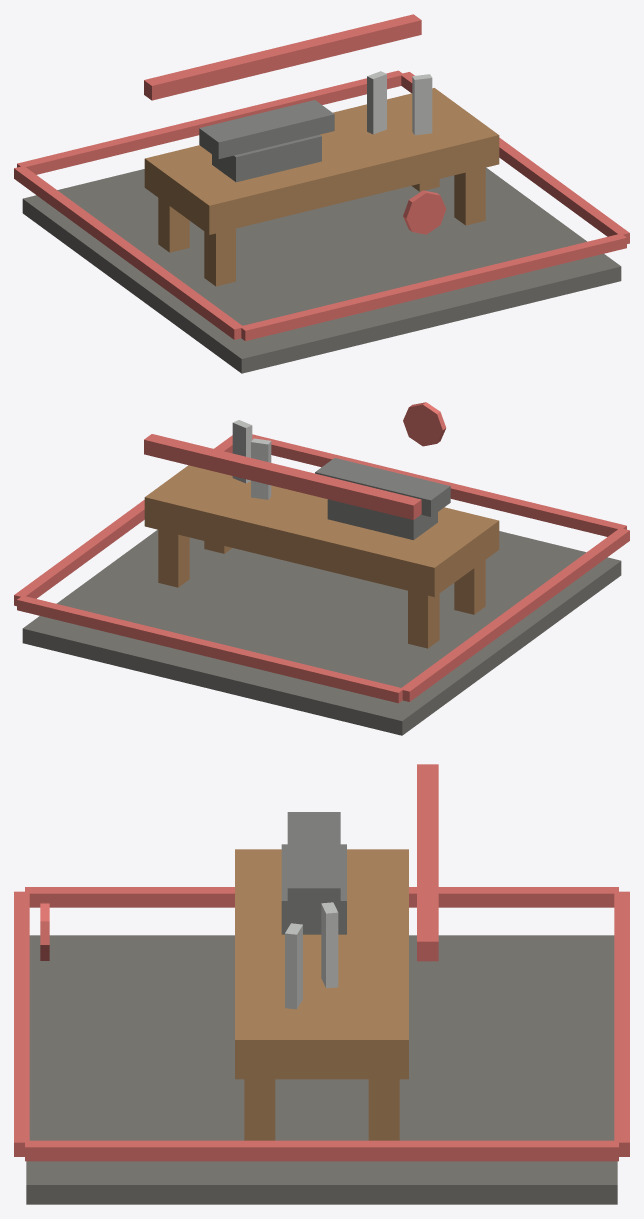
File: t5_toolmaker.glb
3 views of the same model, one above another, from view 1: azimuth 30°, elevation 25°; view 2: azimuth 150°, elevation 25°; view 3: azimuth 270°, elevation 25° (orthographic). The views are drawn at different scales.
Visible parts, largest first — view 1: FootprintBase, Workbench, TierFrontTrim, ToolRack, TierBackTrim, TierLeftTrim, AnvilTop, AnvilBody, TierRightTrim, BenchLeg, BenchLeg.002, TierEmblem (+3 smaller); view 2: FootprintBase, Workbench, TierBackTrim, ToolRack, TierLeftTrim, TierFrontTrim, AnvilTop, TierRightTrim, AnvilBody, BenchLeg.001, BenchLeg.003, TierEmblem (+3 smaller); view 3: FootprintBase, Workbench, TierRightTrim, TierLeftTrim, AnvilTop, ToolRack, TierFrontTrim, TierBackTrim, AnvilBody, BenchLeg.002, BenchLeg.003, ToolBlankA (+1 smaller).
Part boxes in pixels (x1,y1,x2,y2): FootprintBase: (22,167,621,373); Workbench: (144,88,499,234); TierFrontTrim: (240,233,626,341); ToolRack: (144,14,421,100); TierBackTrim: (17,70,403,174); TierLeftTrim: (14,166,242,339); AnvilTop: (199,100,334,158); AnvilBody: (212,134,321,182); TierRightTrim: (401,72,629,243); BenchLeg: (204,228,235,286); BenchLeg.002: (454,167,485,225); TierEmblem: (403,190,446,234); FootprintBase: (22,529,621,735); Workbench: (144,465,499,596); TierBackTrim: (17,595,403,703); ToolRack: (144,434,421,519); TierLeftTrim: (400,528,629,701); TierFrontTrim: (252,434,626,536); AnvilTop: (315,458,450,516); TierRightTrim: (14,435,232,606); AnvilBody: (327,499,437,540); BenchLeg.001: (408,590,439,648); BenchLeg.003: (158,530,189,587); TierEmblem: (403,402,446,446); FootprintBase: (26,935,617,1204); Workbench: (235,849,408,1079); TierRightTrim: (25,1140,618,1161); TierLeftTrim: (25,887,618,907); AnvilTop: (287,812,340,910); ToolRack: (417,764,438,961); TierFrontTrim: (14,891,29,1156); TierBackTrim: (614,891,629,1156); AnvilBody: (281,844,346,934); BenchLeg.002: (244,1079,275,1140); BenchLeg.003: (368,1079,399,1140); ToolBlankA: (321,902,338,988).
Bounding box in the file's own units: 3.96 × 1.61 × 3.96.
